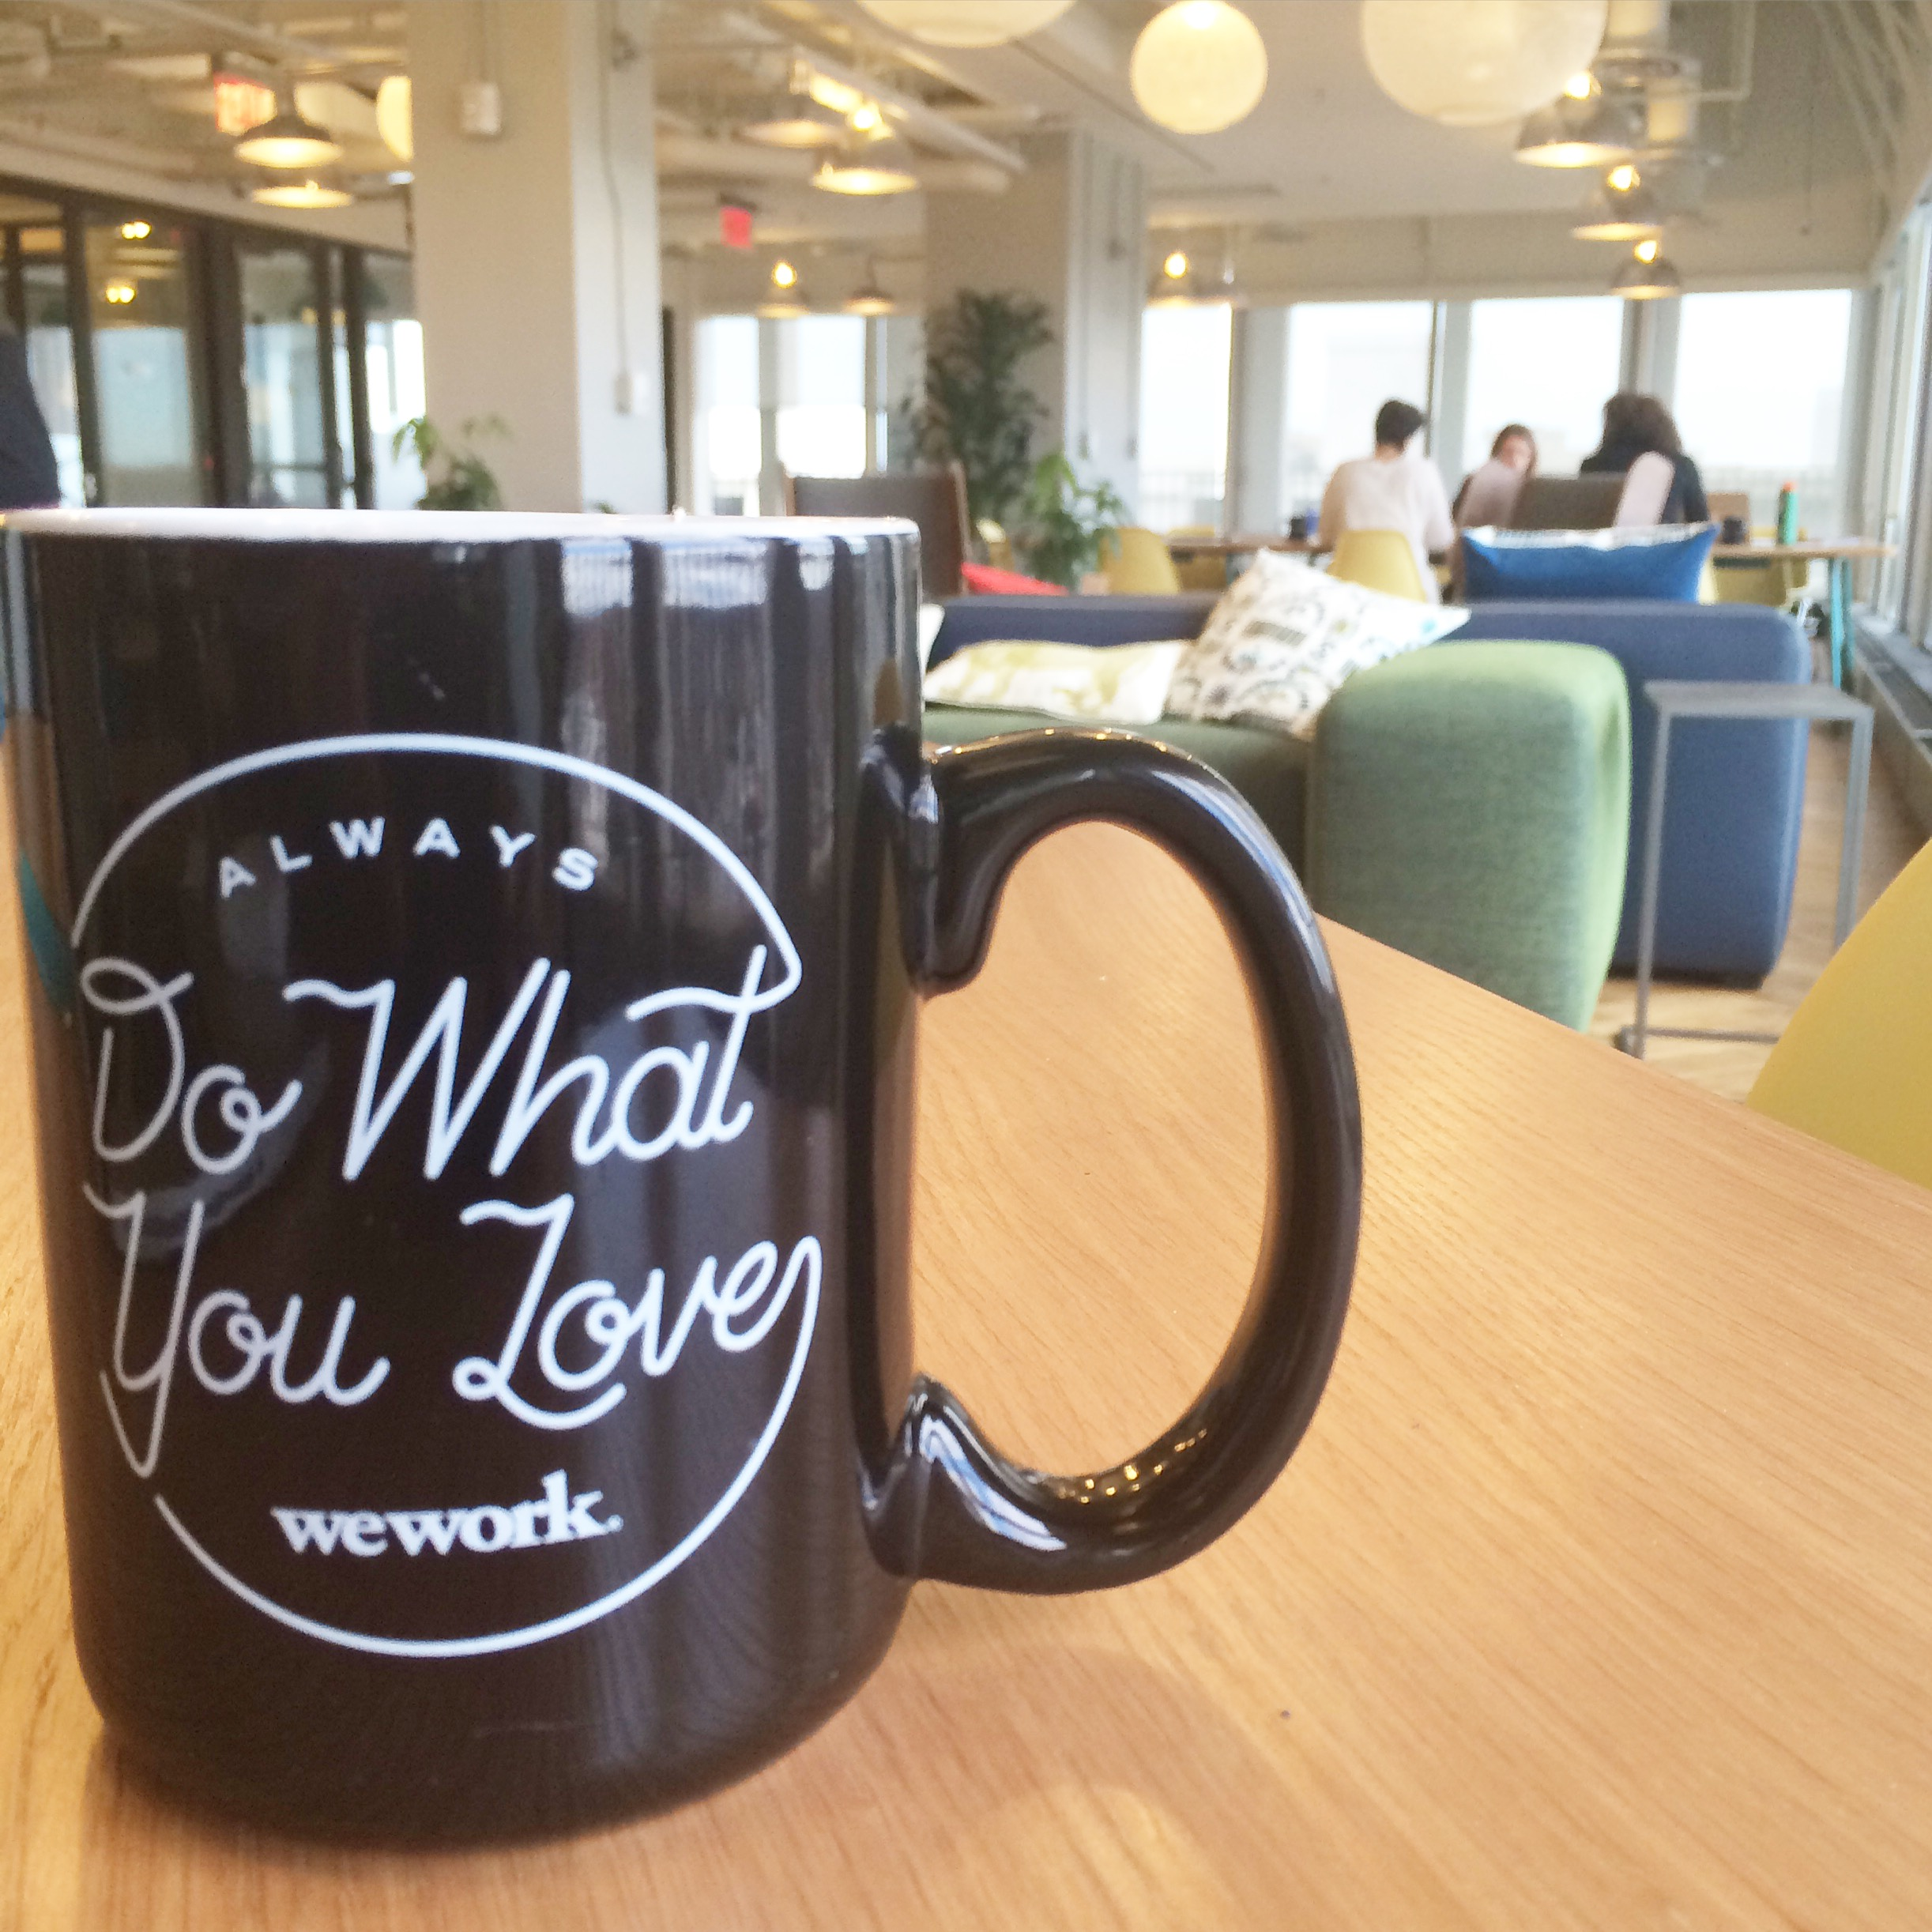wework: (258, 1461, 607, 1571)
